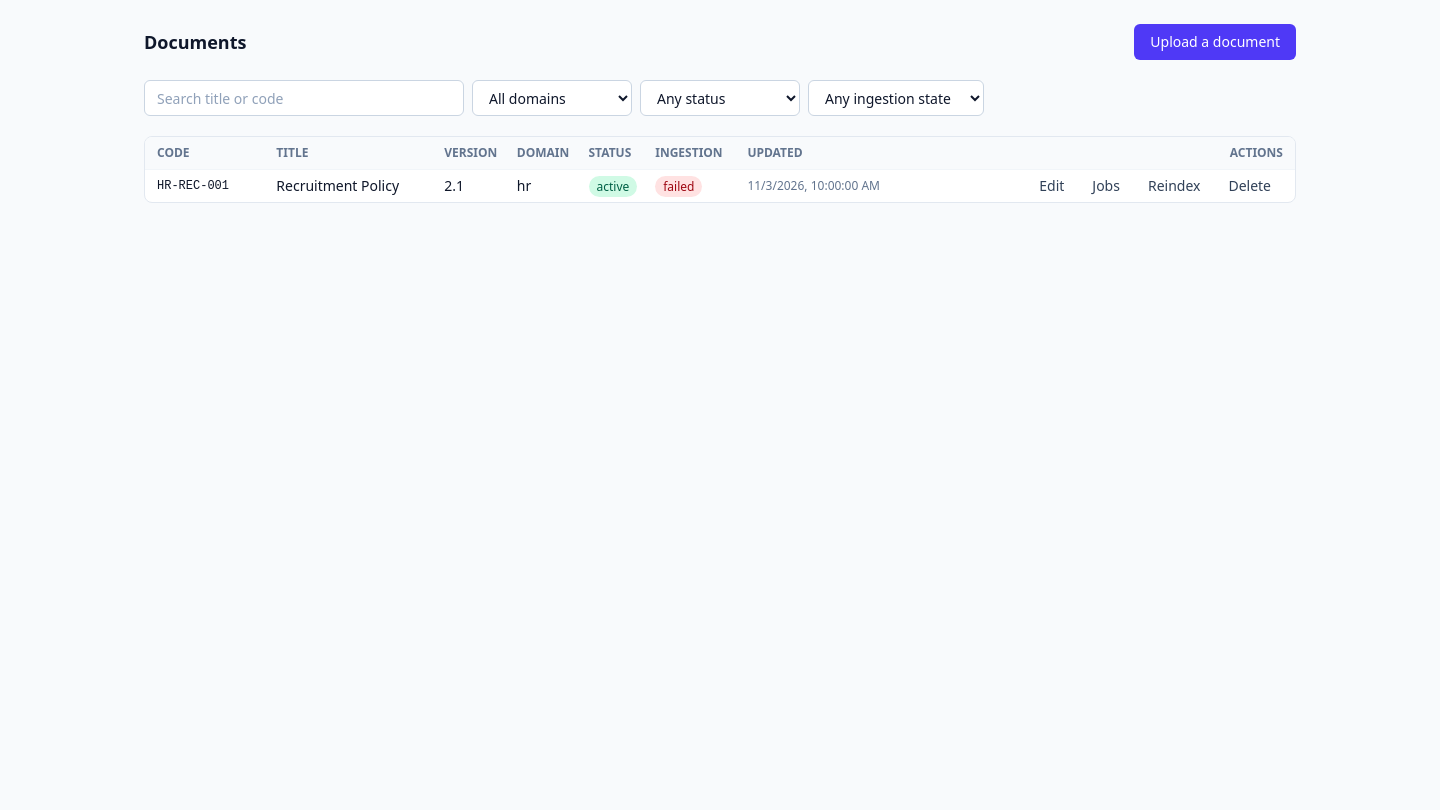
DocumentsAdmin › shows ingestion state and failure reasons
The image size is (1440, 810).
expect the text "Recruitment Policy" is shown: met, box [276, 170, 444, 202]
Click the button with aria-label "Ingestion of HR-REC-001": (1106, 186) [1080, 170, 1132, 202]
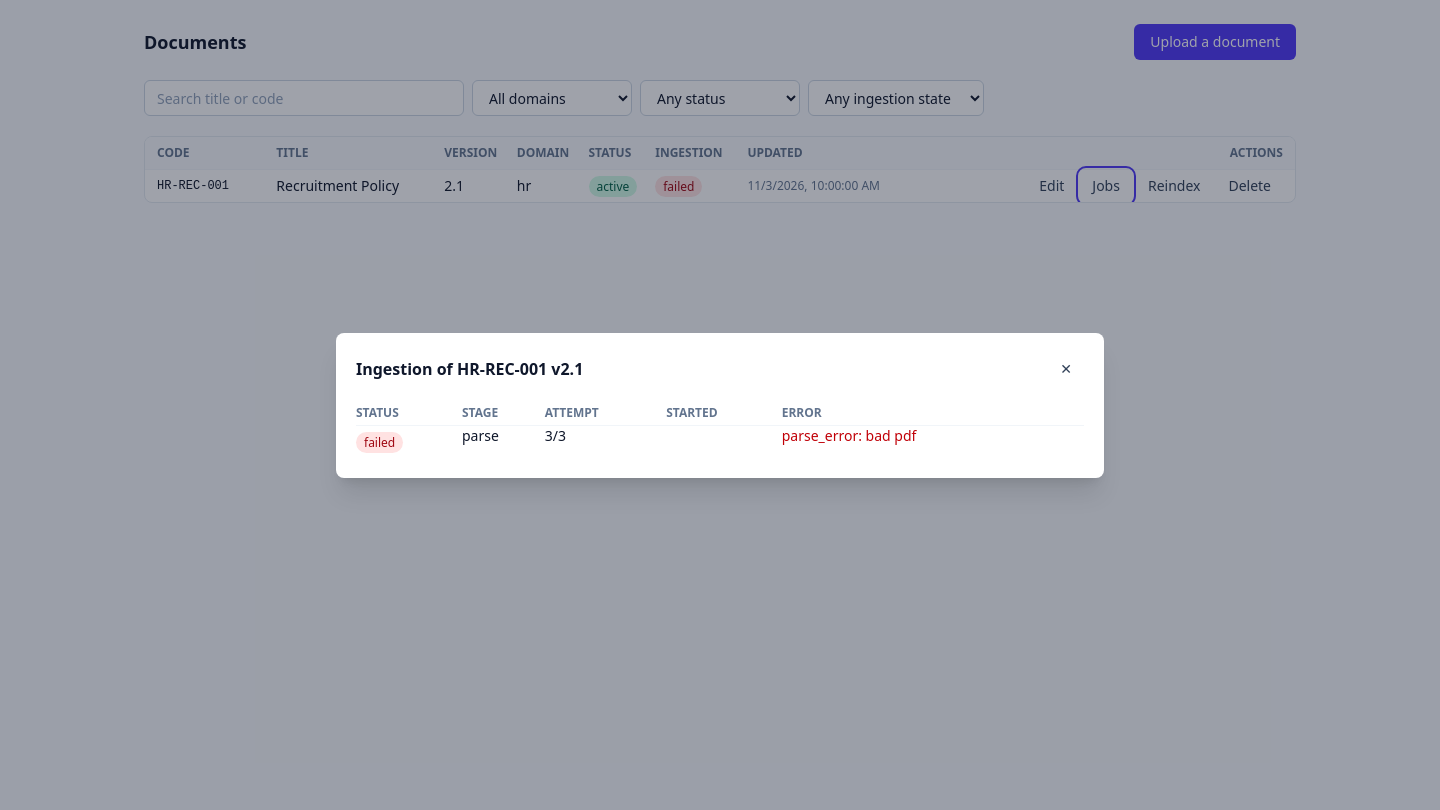
expect the text "parse_error: bad pdf" is shown: met, box [782, 425, 1084, 458]
